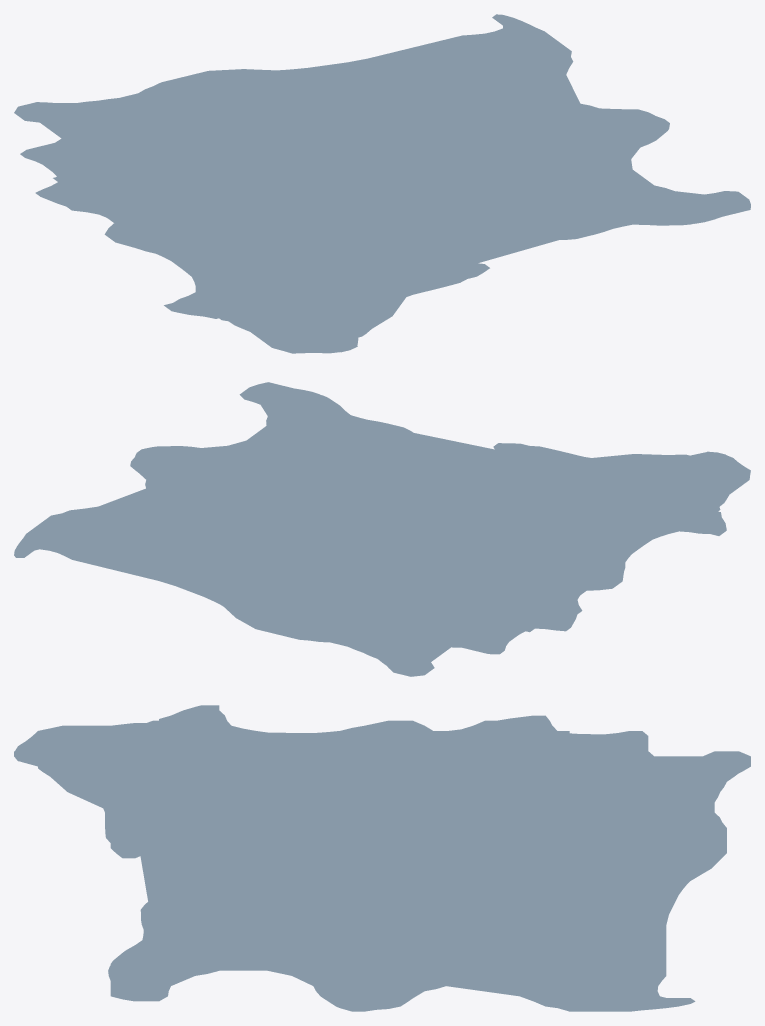
Rendered from Water.fbx.
The picture shows the model from 3 angles, top to bottom: view 1: azimuth 30°, elevation 25°; view 2: azimuth 150°, elevation 25°; view 3: azimuth 270°, elevation 25°; orthographic projection. The views are drawn at different scales.
Parts seen in each view (by area): view 1: Plane; view 2: Plane; view 3: Plane.
Part boxes in pixels (x1,y1,x2,y2): Plane: (14, 14, 750, 353); Plane: (14, 382, 750, 676); Plane: (14, 705, 750, 1011).
Bounding box in the file's own units: 188 × 3.11e-05 × 191.
